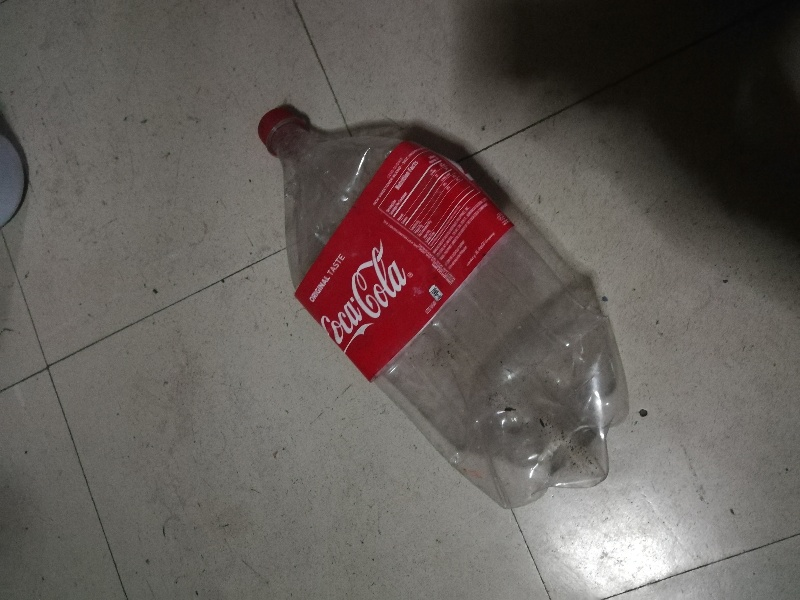PET #1: (257, 99, 627, 512)
